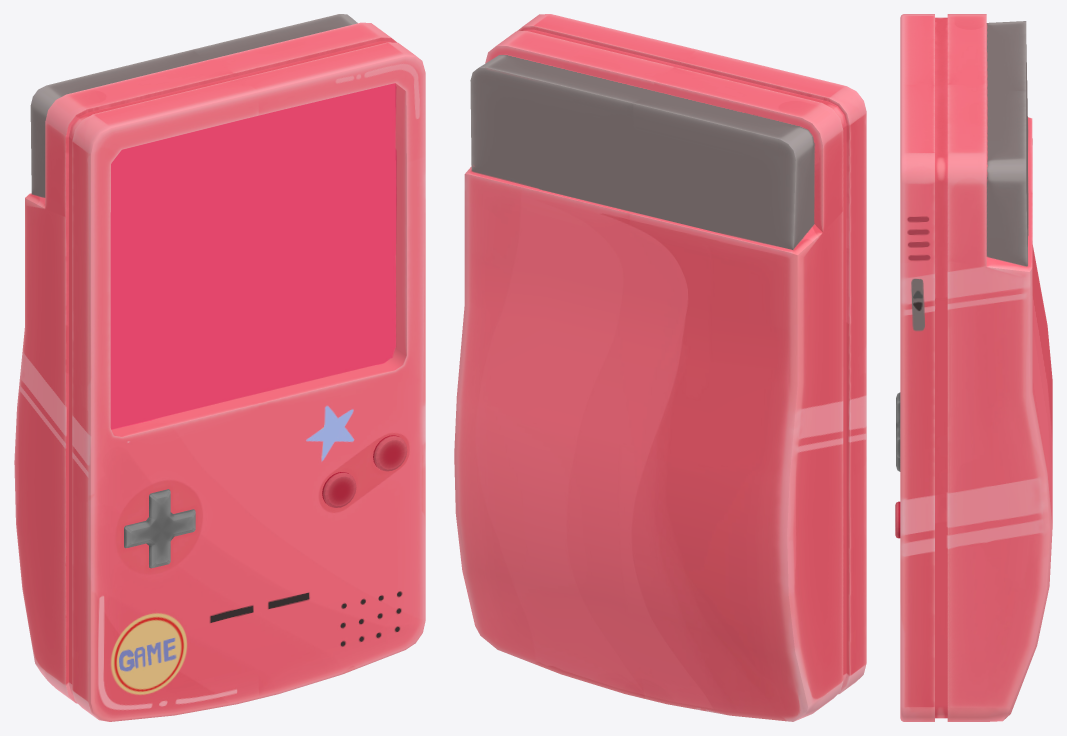
The model's file is console_body.glb.
3 views of the same model, side by side, from view 1: azimuth 30°, elevation 25°; view 2: azimuth 150°, elevation 25°; view 3: azimuth 270°, elevation 25° (orthographic). The views are drawn at different scales.
Parts seen in each view (by area): view 1: pCube3_gembBOI__0, cross, butn_1, btn_2; view 2: pCube3_gembBOI__0; view 3: pCube3_gembBOI__0, cross.
Part boxes in pixels (x1,y1,x2,y2): pCube3_gembBOI__0: (14, 14, 425, 721); cross: (124, 489, 195, 568); butn_1: (373, 435, 407, 471); btn_2: (322, 472, 356, 507); pCube3_gembBOI__0: (454, 14, 866, 721); pCube3_gembBOI__0: (900, 14, 1052, 721); cross: (896, 392, 900, 471).
Bounding box in the file's own units: 1.12 × 1.93 × 0.4742.
Materials: 2 (2 with a texture image).
